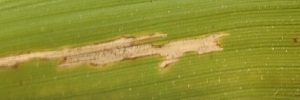RiceBacterialBlight: (1, 29, 235, 76)
